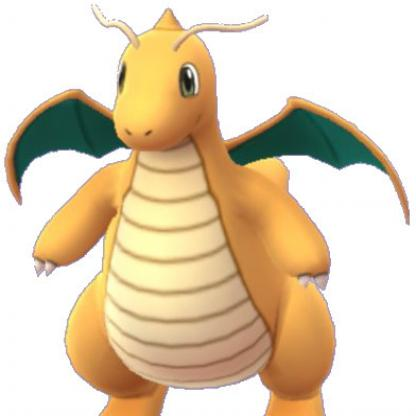Dragonite: (11, 8, 406, 416)
